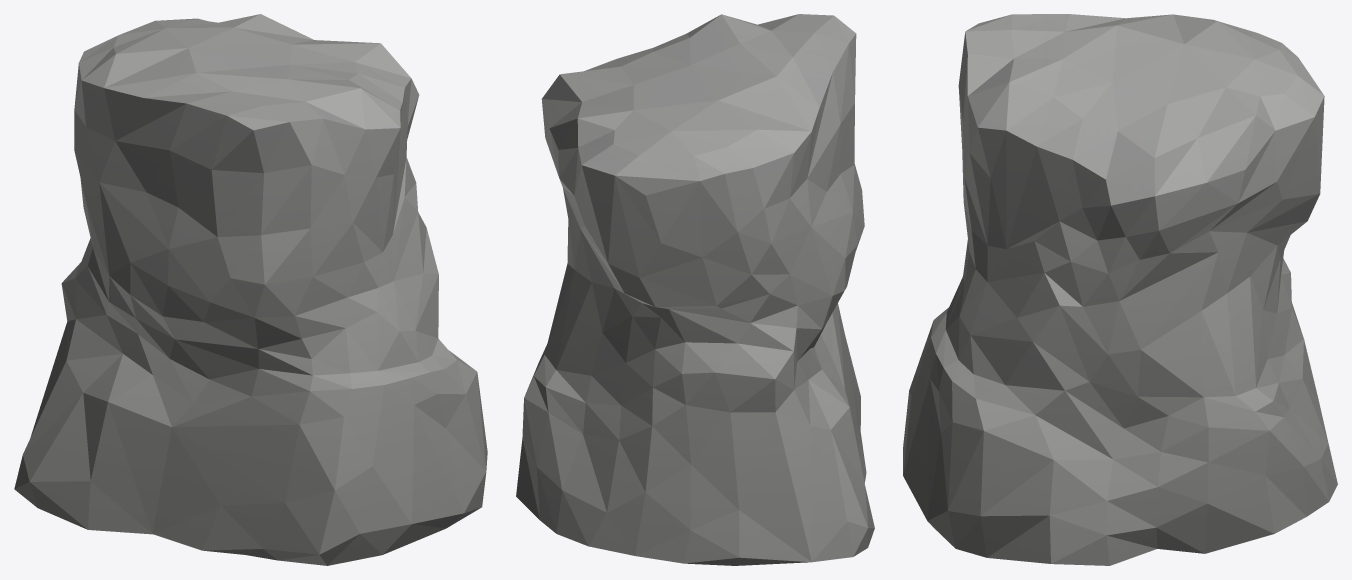
Rendered from Cavern_Wall_Corner_Med-01.fbx.
3 renders of one model, left to right at view 1: azimuth 30°, elevation 25°; view 2: azimuth 150°, elevation 25°; view 3: azimuth 270°, elevation 25°, orthographic. The views are drawn at different scales.
Visible parts, largest first — view 1: Cavern_Wall_Corner_Med-01; view 2: Cavern_Wall_Corner_Med-01; view 3: Cavern_Wall_Corner_Med-01.
Part boxes in pixels (bbox=[...]): Cavern_Wall_Corner_Med-01: bbox=[14, 14, 487, 565]; Cavern_Wall_Corner_Med-01: bbox=[516, 14, 874, 565]; Cavern_Wall_Corner_Med-01: bbox=[903, 14, 1337, 565].
Bounding box in the file's own units: 1296 × 1448 × 1309.
1 material, 1 textured.
